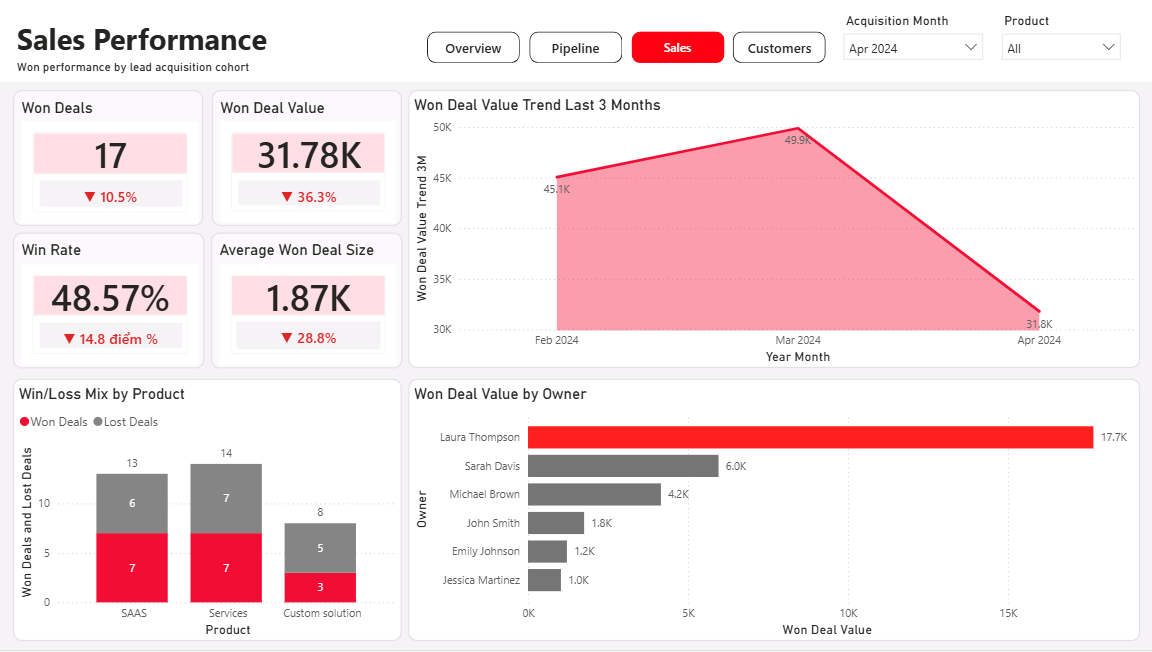

The page's visual inventory and layout, read from the dashboard file:
{"tool":"powerbi","page":{"name":"Sales","canvas":[1280,720],"ordinal":2},"visuals":[{"type":"textbox","box":[0,0,1280,90],"z":0},{"type":"textbox","title":"CRM & Sales Pipeline Overview","box":[16,16,485.7,73.1],"z":1000},{"type":"cardVisual","title":"Won Deals","fields":{"Data":["Fact_CRM_Pipeline.Won Deals"]},"box":[16.2,100.1,211,151],"z":1000,"group":"g2"},{"type":"cardVisual","title":"Win Rate","fields":{"Data":["Fact_CRM_Pipeline.Win Rate"]},"box":[16.2,258.2,211.5,150.4],"z":1000,"group":"g3"},{"type":"pageNavigator","box":[475.4,35,444.3,35.7],"z":2000},{"type":"slicer","title":"Expected Close Month","fields":{"Values":["DimDate.Year Month"]},"box":[931,9.1,164.6,68.6],"z":3000},{"type":"slicer","title":"Expected Close Month","fields":{"Values":["DimProduct.Product"]},"box":[1106.3,9.1,141.7,68.6],"z":4000},{"type":"group","id":"g1","title":"Group 2","box":[16.2,100.1,430.5,308.5],"z":5000},{"type":"group","id":"g2","title":"Group 1","box":[16.2,100.1,430.3,151],"z":6000,"group":"g1"},{"type":"areaChart","title":"Won Deal Value Trend Last 3 Months","fields":{"Category":["AxisMonth.Year Month"],"Y":["Fact_CRM_Pipeline.Won Deal Value Trend 3M"]},"box":[454.3,100.1,811.3,308.3],"z":6000},{"type":"group","id":"g3","title":"Group 1","box":[16.2,258,430.5,150.7],"z":7000,"group":"g1"},{"type":"clusteredBarChart","title":"Won Deal Value by Owner","fields":{"Category":["DimOwner.Owner"],"Y":["Fact_CRM_Pipeline.Won Deal Value"]},"box":[454.3,419.2,811.3,290.7],"z":7000},{"type":"columnChart","title":"Win/Loss Mix by Product","fields":{"Category":["DimProduct.Product"],"Y":["Fact_CRM_Pipeline.Won Deals","Fact_CRM_Pipeline.Lost Deals"]},"box":[16.2,419.2,431.3,290.7],"z":8000},{"type":"cardVisual","title":"Won Deal Value","fields":{"Data":["Fact_CRM_Pipeline.Won Deal Value"]},"box":[236.1,100.1,210.4,150.7],"z":9000,"group":"g2"},{"type":"cardVisual","title":"Average Won Deal Size","fields":{"Data":["Fact_CRM_Pipeline.Average Won Deal Size"]},"box":[235.2,258,211.5,150.4],"z":9000,"group":"g3"}]}

Visuals, with their boxes in screenshot pixels (x1, y1, x2, y2), scaled from the page's 1280x720 canvas onto the 1152x652 screenshot:
textbox: x1=0, y1=0, x2=1151, y2=82
"CRM & Sales Pipeline Overview" textbox: x1=14, y1=14, x2=452, y2=81
"Won Deals" cardVisual: x1=15, y1=91, x2=204, y2=227
"Win Rate" cardVisual: x1=15, y1=234, x2=205, y2=370
pageNavigator: x1=428, y1=32, x2=828, y2=64
"Expected Close Month" slicer: x1=838, y1=8, x2=986, y2=70
"Expected Close Month" slicer: x1=996, y1=8, x2=1123, y2=70
"Group 2" group: x1=15, y1=91, x2=402, y2=370
"Group 1" group: x1=15, y1=91, x2=402, y2=227
"Won Deal Value Trend Last 3 Months" areaChart: x1=409, y1=91, x2=1139, y2=370
"Group 1" group: x1=15, y1=234, x2=402, y2=370
"Won Deal Value by Owner" clusteredBarChart: x1=409, y1=380, x2=1139, y2=643
"Win/Loss Mix by Product" columnChart: x1=15, y1=380, x2=403, y2=643
"Won Deal Value" cardVisual: x1=212, y1=91, x2=402, y2=227
"Average Won Deal Size" cardVisual: x1=212, y1=234, x2=402, y2=370
